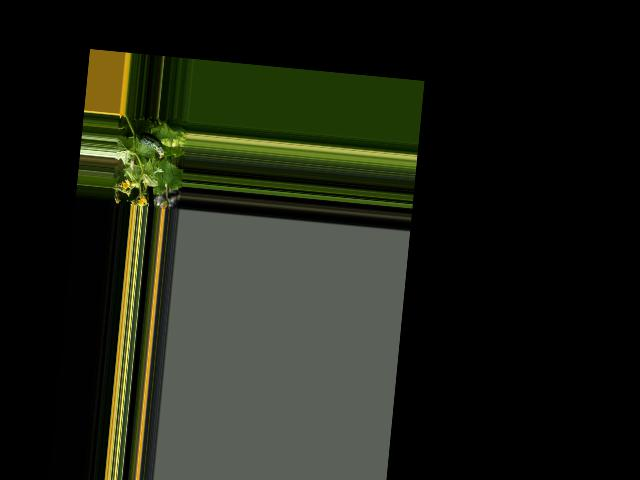cucumber: (135, 132, 166, 159)
